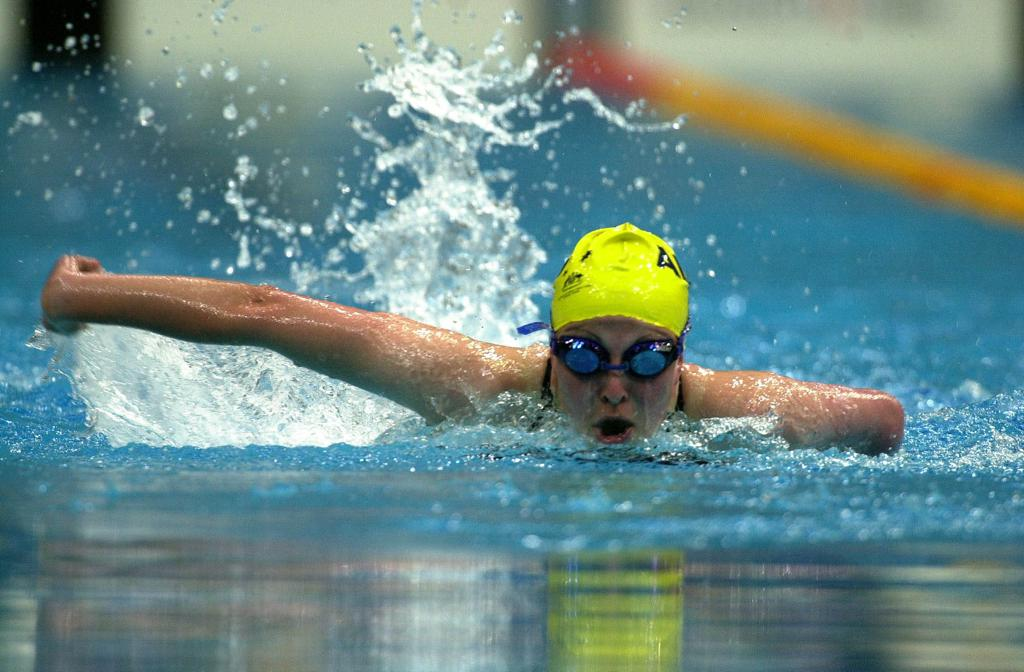face: (550, 312, 676, 452)
